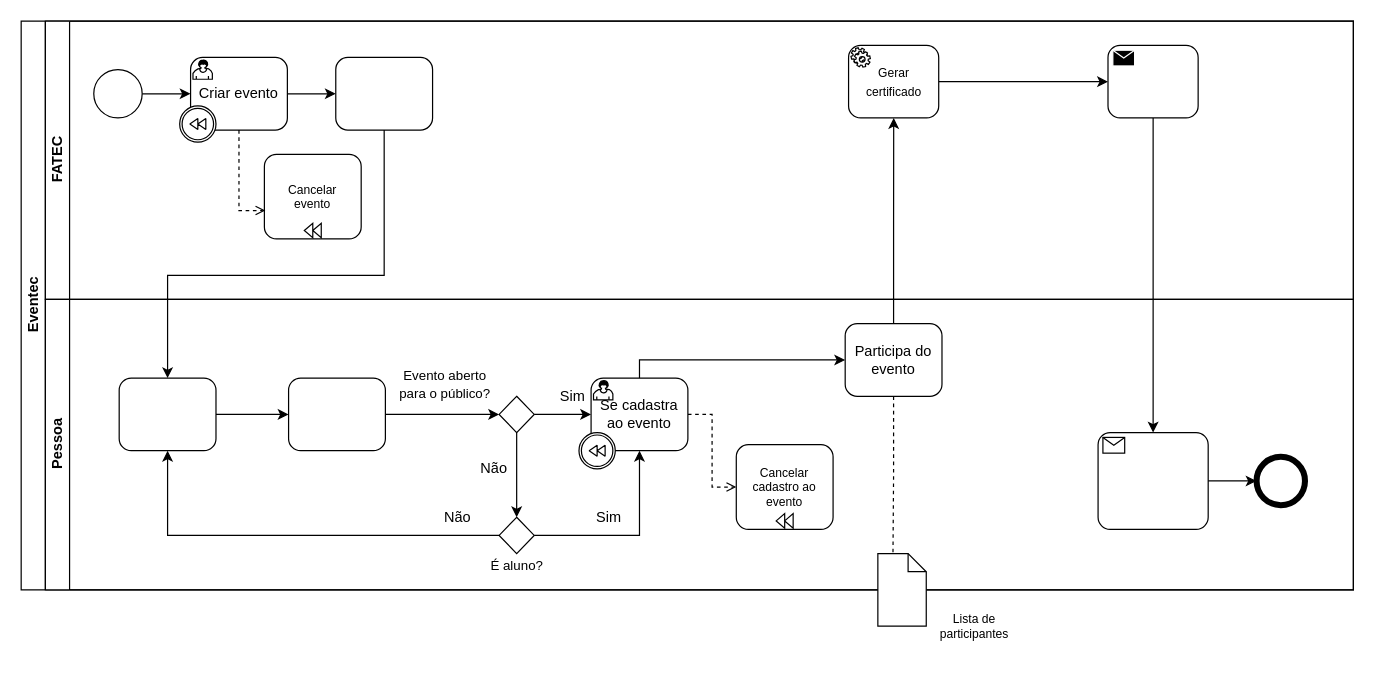
Image size: 1375x684. Some labels were removed from this diagram. Each missing label, with the centre of its shape:
"Anuncia evento na plataforma" belongs at (384,93).
"Envia certificado" belongs at (1152,81).
"Escolhe evento" belongs at (336,414).
"Pesquisa eventos" belongs at (167,414).
"Recebe certificado" belongs at (1152,480).
